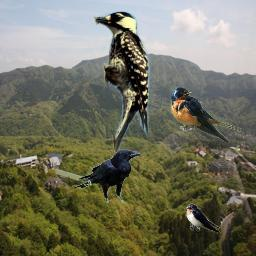Crow: (74, 149, 142, 203)
Swallow: (170, 86, 244, 142), (184, 203, 221, 234)
Woodpecker: (92, 11, 152, 154)
